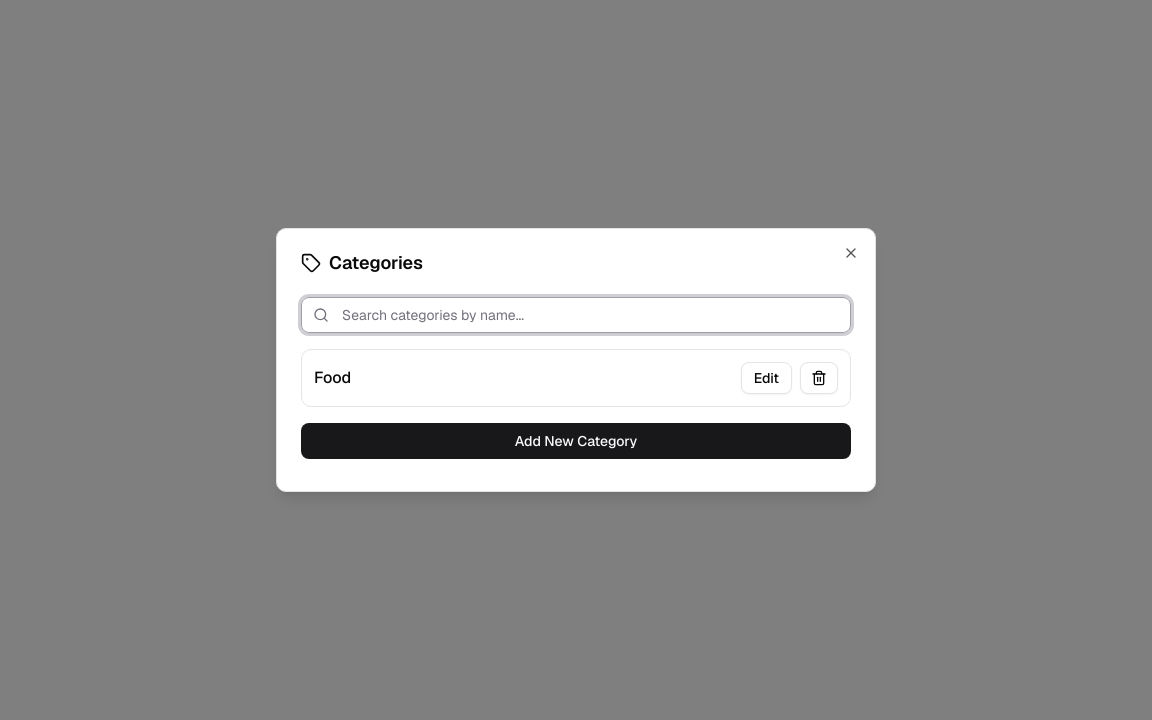
it: ViewCategoriesModal › opens the create dialog from the list
This screenshot has width=1152, height=720.
Expected: the text "Food" is shown, [314,366,351,390]
Click the button "Add New Category" at (576, 441), box [301,423,851,459]
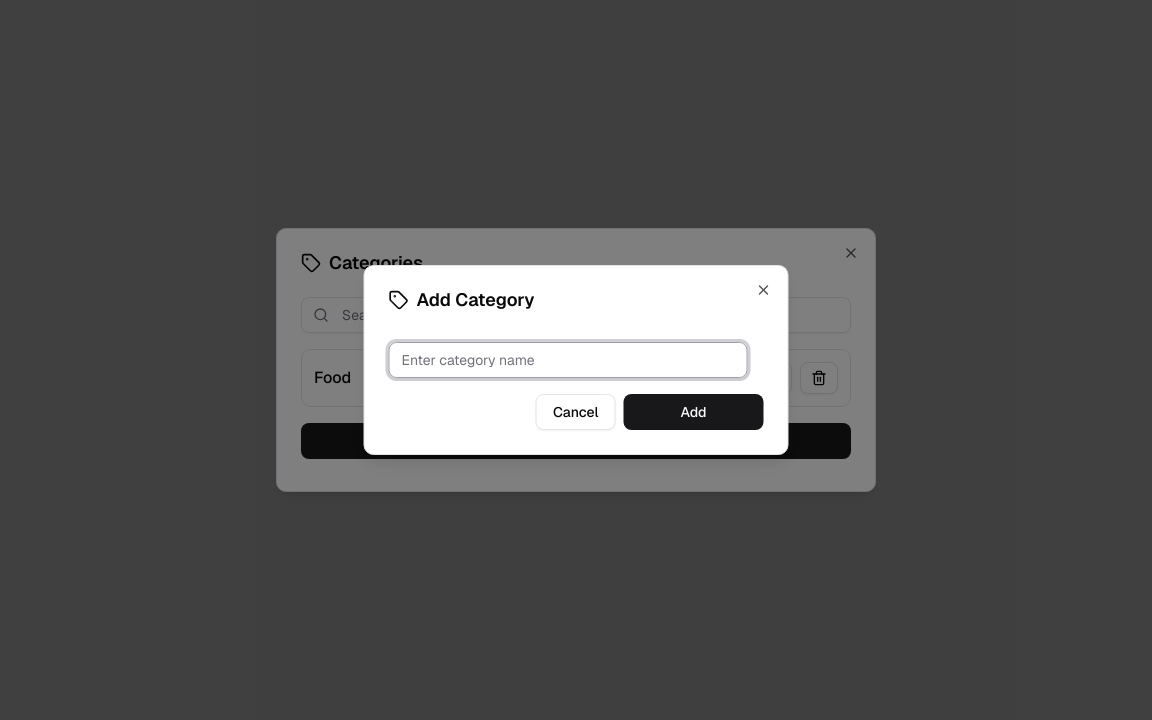
Now the dialog "Add Category" is shown, box [364,265,788,455]
